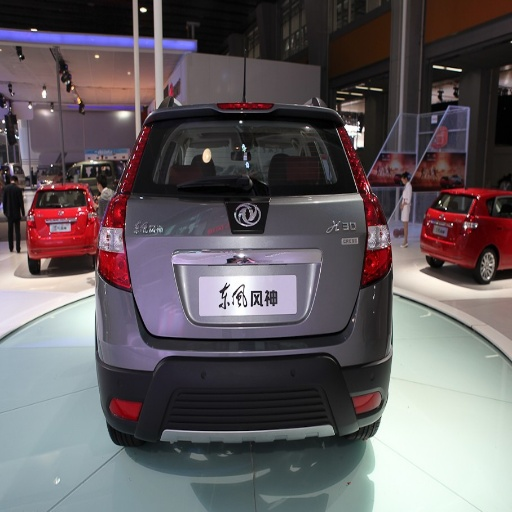back_bumper: (95, 274, 389, 472)
tailgate: (125, 193, 362, 333)
trunk: (275, 193, 367, 239)
